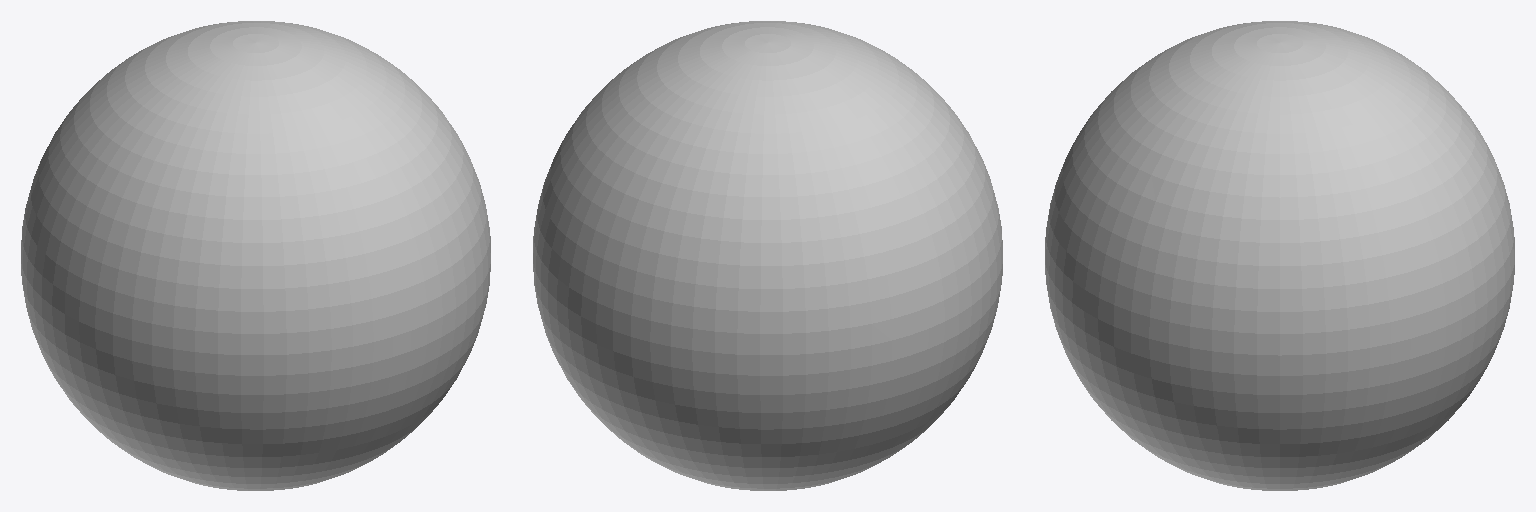
File: lamp.obj
The picture shows the model from 3 angles: view 1: azimuth 30°, elevation 25°; view 2: azimuth 150°, elevation 25°; view 3: azimuth 270°, elevation 25°; orthographic projection.
Parts seen in each view (by area): view 1: Sphere001; view 2: Sphere001; view 3: Sphere001.
Boxes of the visible parts, x1=… form: Sphere001: x1=21, y1=21, x2=490, y2=490; Sphere001: x1=533, y1=21, x2=1002, y2=490; Sphere001: x1=1045, y1=21, x2=1514, y2=490.
Size of the model in its own units: 1.02 by 1.02 by 1.02.